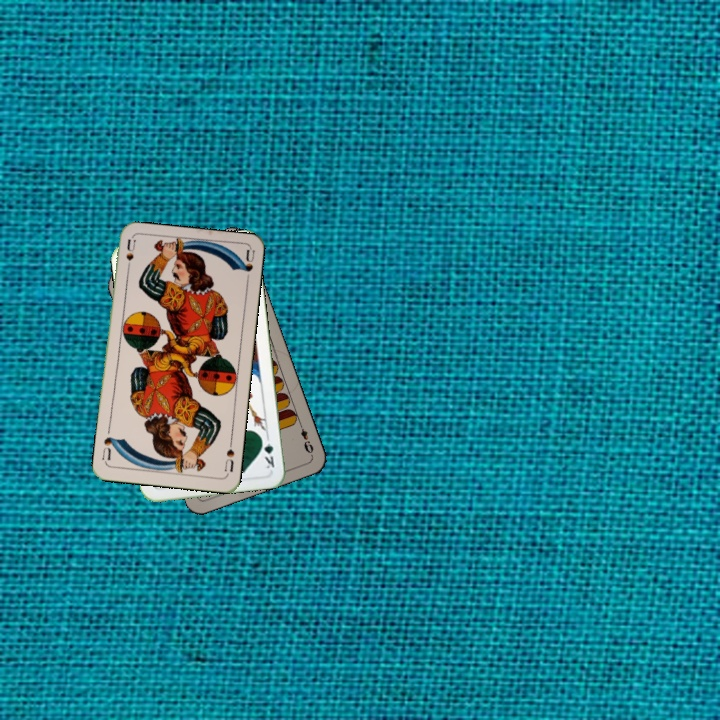E9: (295, 418, 316, 458)
GK: (257, 432, 277, 471)
SU: (220, 436, 237, 477), (122, 236, 139, 277)
